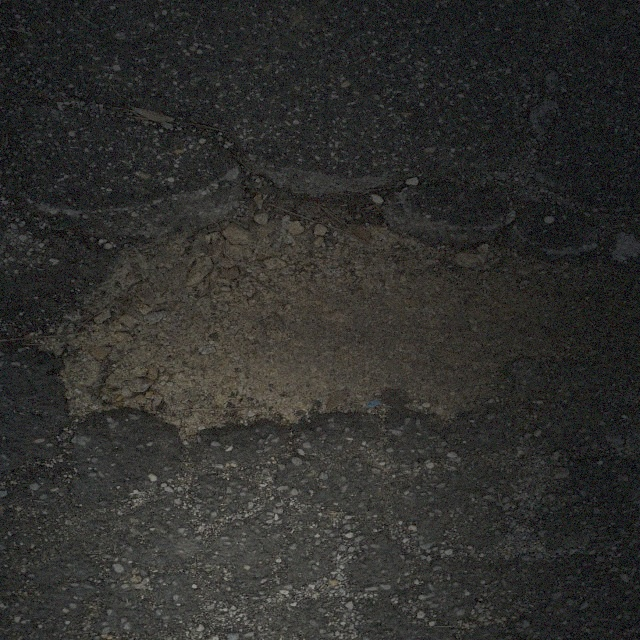pothole: (49, 153, 593, 458)
